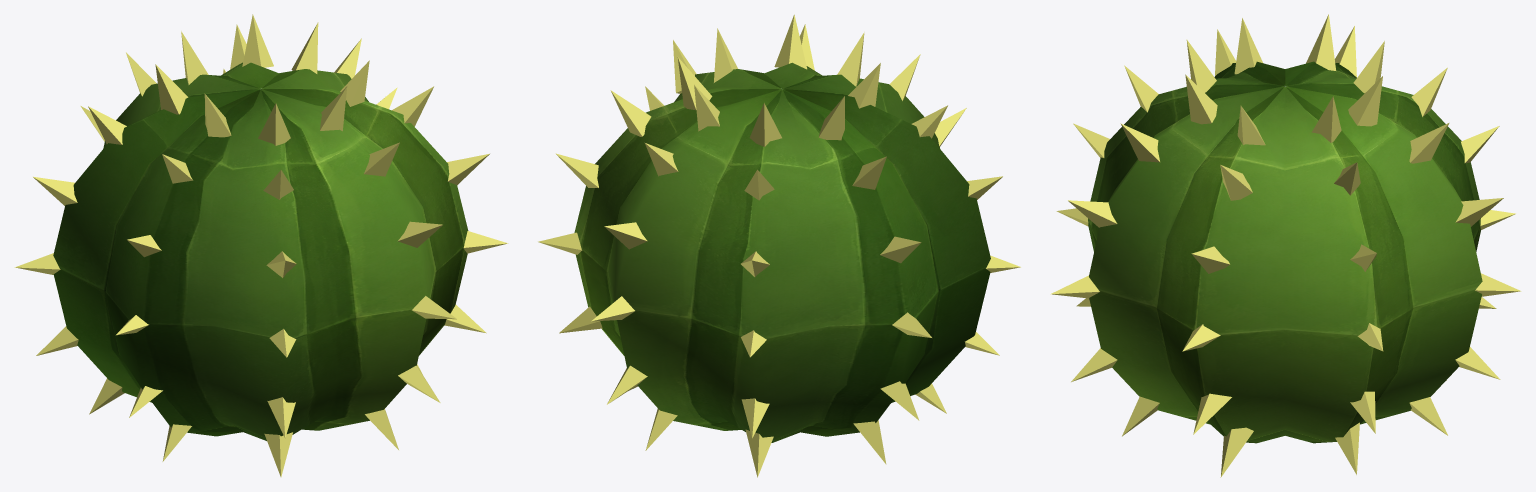
File: Cactus.fbx
3 views of the same model, side by side, from view 1: azimuth 30°, elevation 25°; view 2: azimuth 150°, elevation 25°; view 3: azimuth 270°, elevation 25° (orthographic).
Parts seen in each view (by area): view 1: Cactus1; view 2: Cactus1; view 3: Cactus1.
Boxes of the visible parts, x1,y1,x2,y2 form: Cactus1: (14, 14, 507, 477); Cactus1: (538, 14, 1020, 477); Cactus1: (1050, 14, 1521, 477).
Size of the model in its own units: 97.25 by 84.01 by 98.92.
Materials: 2 (1 with a texture image).
